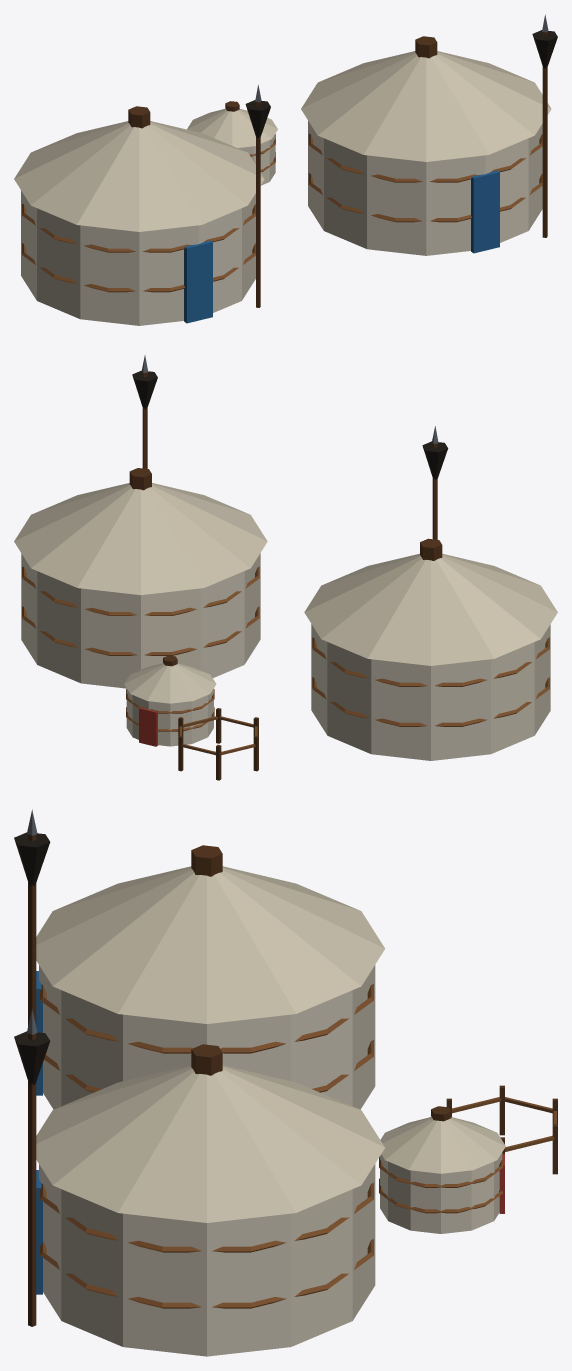
File: orc_row_broken.glb
3 views of the same model, one above another, from view 1: azimuth 30°, elevation 25°; view 2: azimuth 150°, elevation 25°; view 3: azimuth 270°, elevation 25° (orthographic). The views are drawn at different scales.
Visible parts, largest first — view 1: orc_row_piece3, orc_row_piece0, orc_row_piece13, orc_row_piece4, orc_row_piece5, orc_row_piece7, orc_row_piece11, orc_row_piece2, orc_row_piece6, orc_row_piece8, orc_row_piece10, orc_row_piece1 (+1 smaller); view 2: orc_row_piece5, orc_row_piece7, orc_row_piece1, orc_row_piece2, orc_row_piece13, orc_row_piece6, orc_row_piece0, orc_row_piece10, orc_row_piece4, orc_row_piece3, orc_row_piece9, orc_row_piece8 (+1 smaller); view 3: orc_row_piece6, orc_row_piece13, orc_row_piece3, orc_row_piece2, orc_row_piece1, orc_row_piece5, orc_row_piece0, orc_row_piece11, orc_row_piece7, orc_row_piece9, orc_row_piece12, orc_row_piece10.
Part boxes in pixels (x1,y1,x2,y2): orc_row_piece3: [353, 14, 557, 255]; orc_row_piece0: [29, 148, 258, 325]; orc_row_piece13: [70, 85, 270, 218]; orc_row_piece4: [239, 59, 429, 294]; orc_row_piece5: [14, 126, 106, 317]; orc_row_piece7: [308, 36, 432, 184]; orc_row_piece11: [161, 224, 257, 323]; orc_row_piece2: [177, 70, 350, 185]; orc_row_piece6: [437, 51, 548, 104]; orc_row_piece8: [250, 200, 346, 307]; orc_row_piece10: [308, 160, 333, 204]; orc_row_piece1: [187, 59, 380, 154]; orc_row_piece5: [311, 604, 549, 760]; orc_row_piece7: [73, 471, 256, 676]; orc_row_piece1: [30, 534, 240, 780]; orc_row_piece2: [113, 565, 360, 744]; orc_row_piece13: [329, 426, 479, 614]; orc_row_piece6: [14, 483, 129, 676]; orc_row_piece0: [456, 560, 557, 711]; orc_row_piece10: [45, 595, 250, 688]; orc_row_piece4: [153, 484, 267, 650]; orc_row_piece3: [72, 355, 260, 647]; orc_row_piece9: [172, 617, 359, 771]; orc_row_piece8: [208, 623, 252, 677]; orc_row_piece6: [128, 1071, 367, 1356]; orc_row_piece13: [14, 809, 302, 1077]; orc_row_piece3: [14, 1008, 208, 1347]; orc_row_piece2: [195, 941, 467, 1231]; orc_row_piece1: [301, 1098, 557, 1236]; orc_row_piece5: [263, 876, 384, 1109]; orc_row_piece0: [34, 871, 269, 1079]; orc_row_piece11: [36, 1021, 129, 1109]; orc_row_piece7: [197, 1044, 351, 1137]; orc_row_piece9: [321, 945, 526, 1135]; orc_row_piece12: [190, 1047, 363, 1226]; orc_row_piece10: [357, 1203, 375, 1297].
Bounding box in the file's own units: 6.15 × 2.6 × 4.04.
